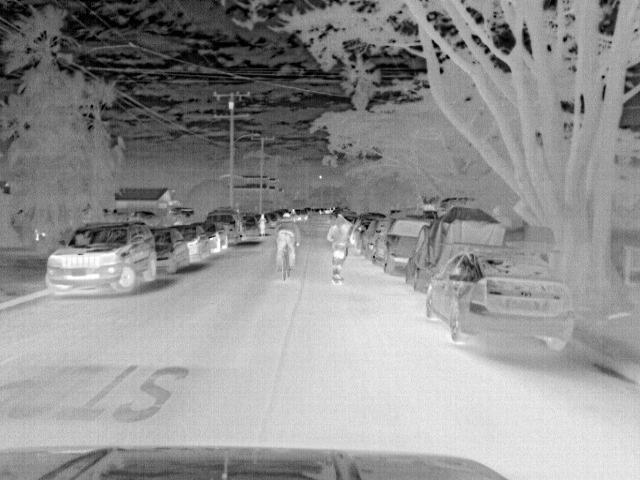car: (425, 249, 576, 354), (43, 221, 159, 294), (406, 208, 503, 291), (373, 217, 436, 274), (149, 229, 189, 273), (171, 225, 213, 262), (358, 214, 390, 257), (207, 213, 242, 245), (196, 222, 223, 251), (169, 204, 197, 225), (129, 210, 161, 227), (239, 214, 260, 235), (292, 208, 309, 221)
person: (326, 210, 352, 278), (274, 211, 300, 275), (256, 211, 267, 235)
